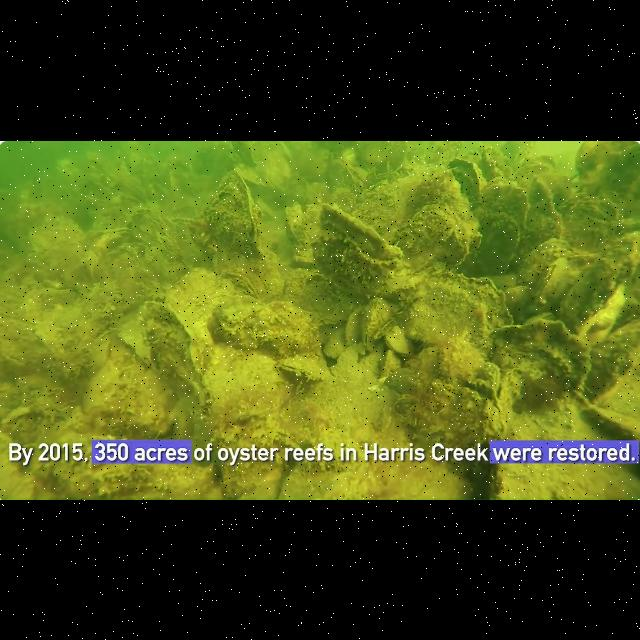Oyster-Closed: (385, 340, 504, 461), (33, 439, 223, 498), (399, 270, 511, 352), (493, 316, 590, 404), (203, 344, 291, 422), (139, 300, 201, 392), (395, 204, 480, 268), (204, 170, 263, 257), (99, 241, 164, 304), (165, 268, 235, 324), (393, 168, 469, 215), (208, 295, 270, 348), (30, 216, 85, 273), (579, 284, 625, 344), (480, 176, 530, 229), (518, 238, 574, 284), (478, 213, 519, 275), (536, 256, 580, 311), (583, 401, 639, 439), (601, 230, 639, 282), (361, 296, 398, 349), (84, 359, 121, 411), (146, 231, 188, 276), (128, 208, 173, 245), (448, 158, 486, 201), (505, 285, 541, 323), (465, 464, 499, 498), (60, 348, 90, 378), (345, 305, 366, 345), (89, 333, 111, 371), (385, 325, 414, 353), (323, 325, 346, 358)
Oyster-Open: (313, 203, 414, 297), (576, 140, 639, 214), (278, 354, 330, 380), (89, 226, 131, 254), (220, 269, 259, 297), (1, 405, 38, 433), (284, 446, 315, 460)
